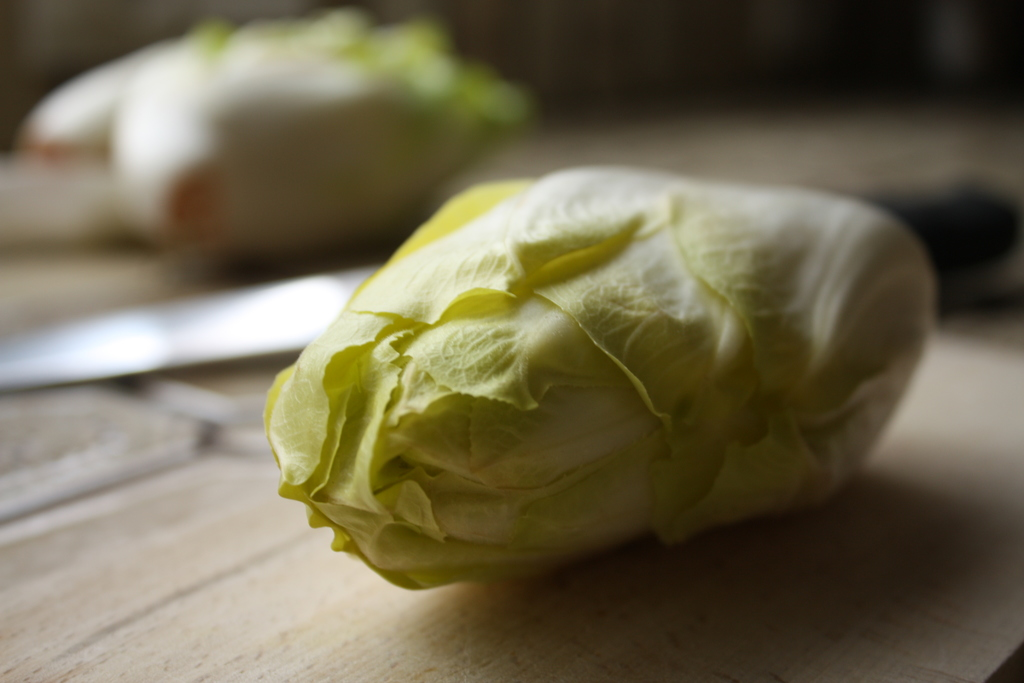Cabbage: (263, 166, 933, 590), (117, 7, 530, 255), (18, 39, 184, 163)
